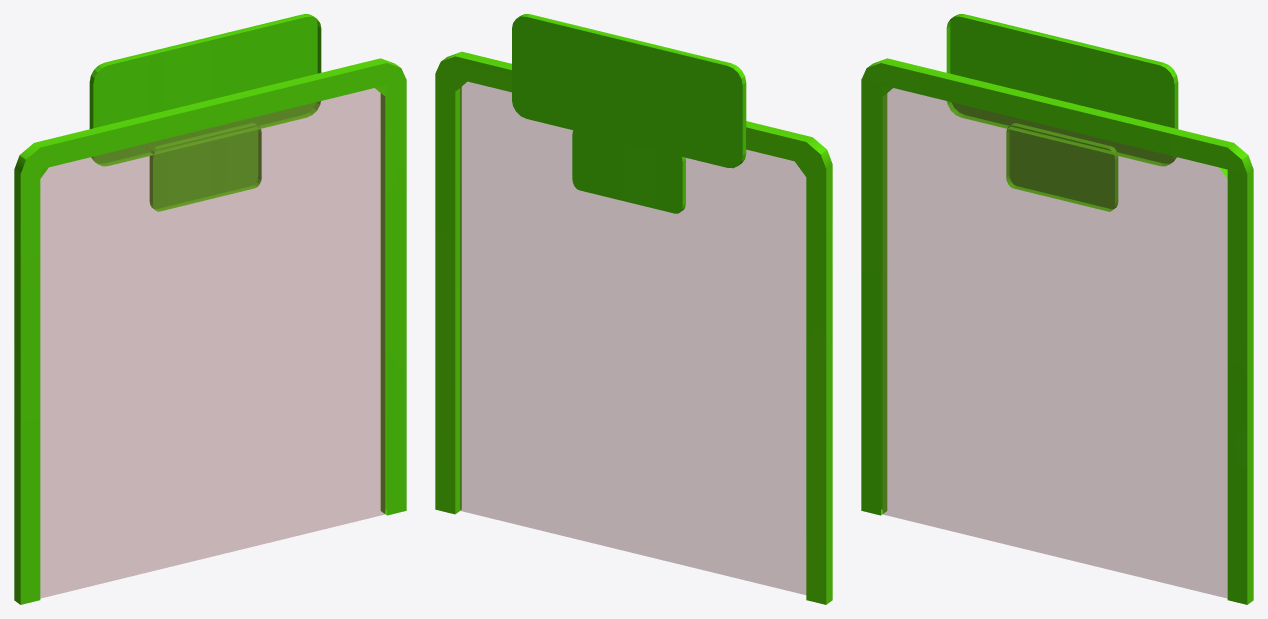
File: gate_greenone.fbx
The picture shows the model from 3 angles, left to right: view 1: azimuth 30°, elevation 25°; view 2: azimuth 150°, elevation 25°; view 3: azimuth 330°, elevation 25°; orthographic projection.
Visible parts, largest first — view 1: Gate_redone; view 2: Gate_redone; view 3: Gate_redone.
Part boxes in pixels (x1=…): Gate_redone: x1=14, y1=14, x2=406, y2=604; Gate_redone: x1=435, y1=14, x2=832, y2=604; Gate_redone: x1=861, y1=14, x2=1253, y2=604.
Bounding box in the file's own units: 884 × 1120 × 39.36.
